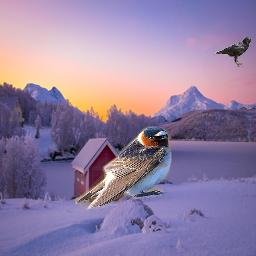Crow: (213, 37, 251, 67)
Swallow: (75, 126, 172, 212)
